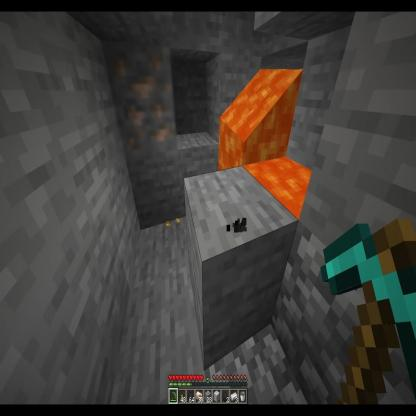iron ore: (108, 42, 178, 159)
